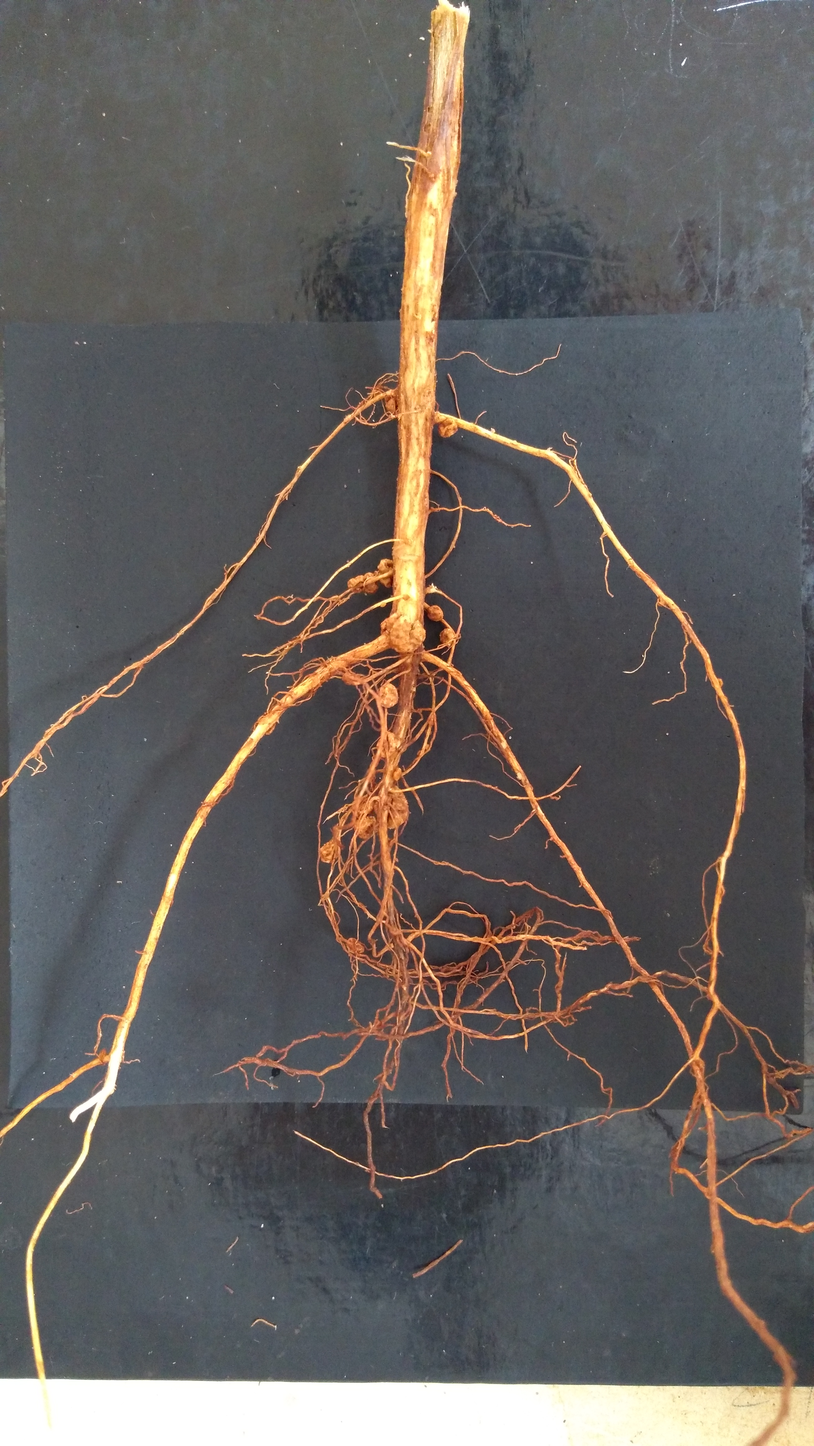nodule: (374, 785, 408, 829), (389, 615, 425, 653), (354, 816, 377, 839), (377, 683, 399, 707), (352, 792, 374, 816), (319, 839, 341, 863), (376, 731, 395, 758), (380, 612, 401, 633), (438, 418, 458, 438), (377, 559, 394, 578), (347, 575, 364, 593), (439, 628, 454, 648), (364, 573, 378, 594), (346, 937, 364, 953), (342, 672, 364, 685), (689, 1058, 704, 1077), (378, 572, 394, 588), (427, 605, 443, 621), (385, 396, 398, 414), (396, 740, 407, 752), (711, 678, 723, 688), (433, 415, 447, 423), (393, 768, 401, 781), (657, 596, 666, 607), (370, 389, 380, 397), (402, 594, 410, 600), (428, 719, 434, 725), (425, 729, 431, 735), (373, 571, 379, 576), (380, 602, 386, 607), (425, 744, 430, 750), (417, 750, 422, 755)
